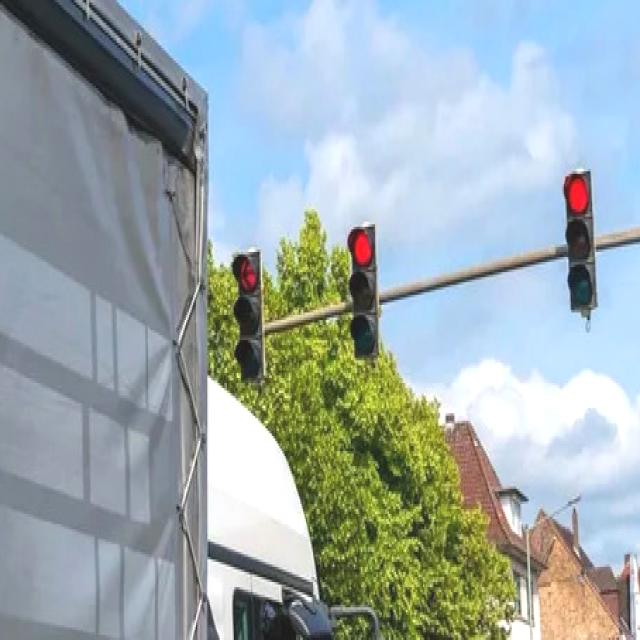kirmizi: (564, 168, 598, 310), (347, 224, 379, 359), (232, 253, 262, 382)
